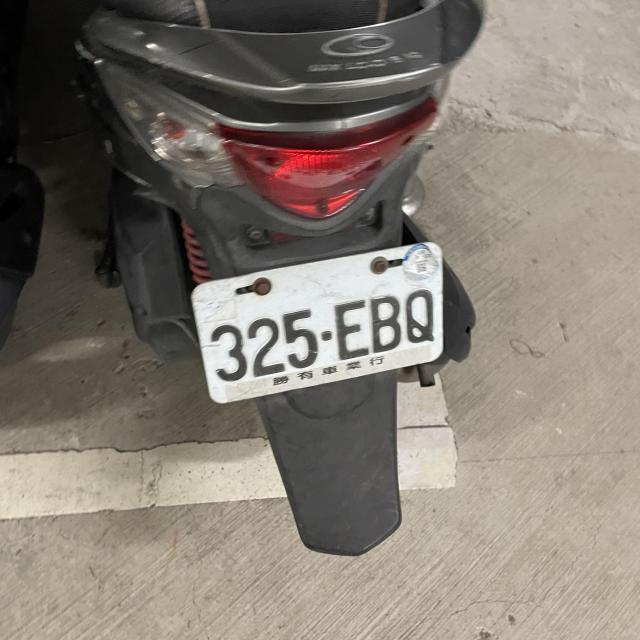W: (185, 238, 456, 407)
